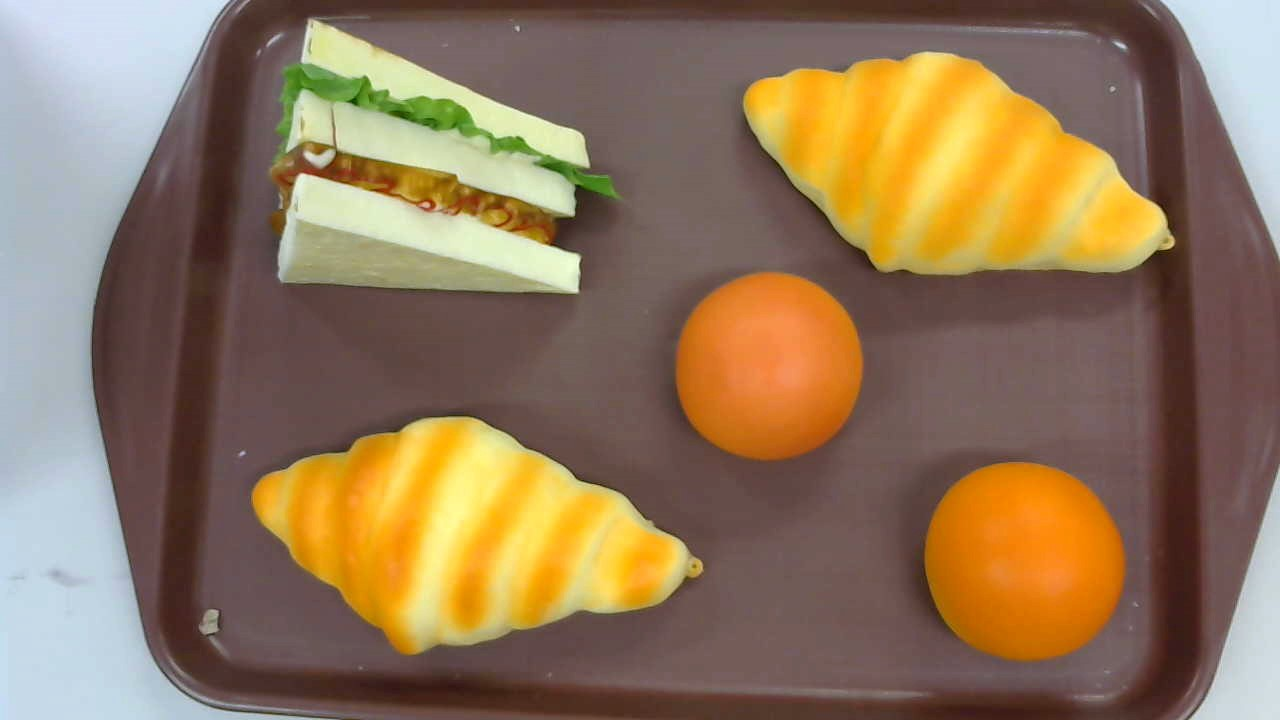bun: (925, 459, 1128, 658), (674, 269, 864, 460)
croissant: (251, 416, 703, 653), (743, 51, 1176, 278)
sandwich: (269, 17, 625, 295)
